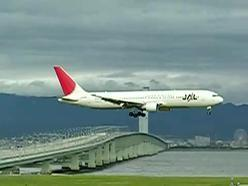aircraft: (53, 64, 225, 118)
